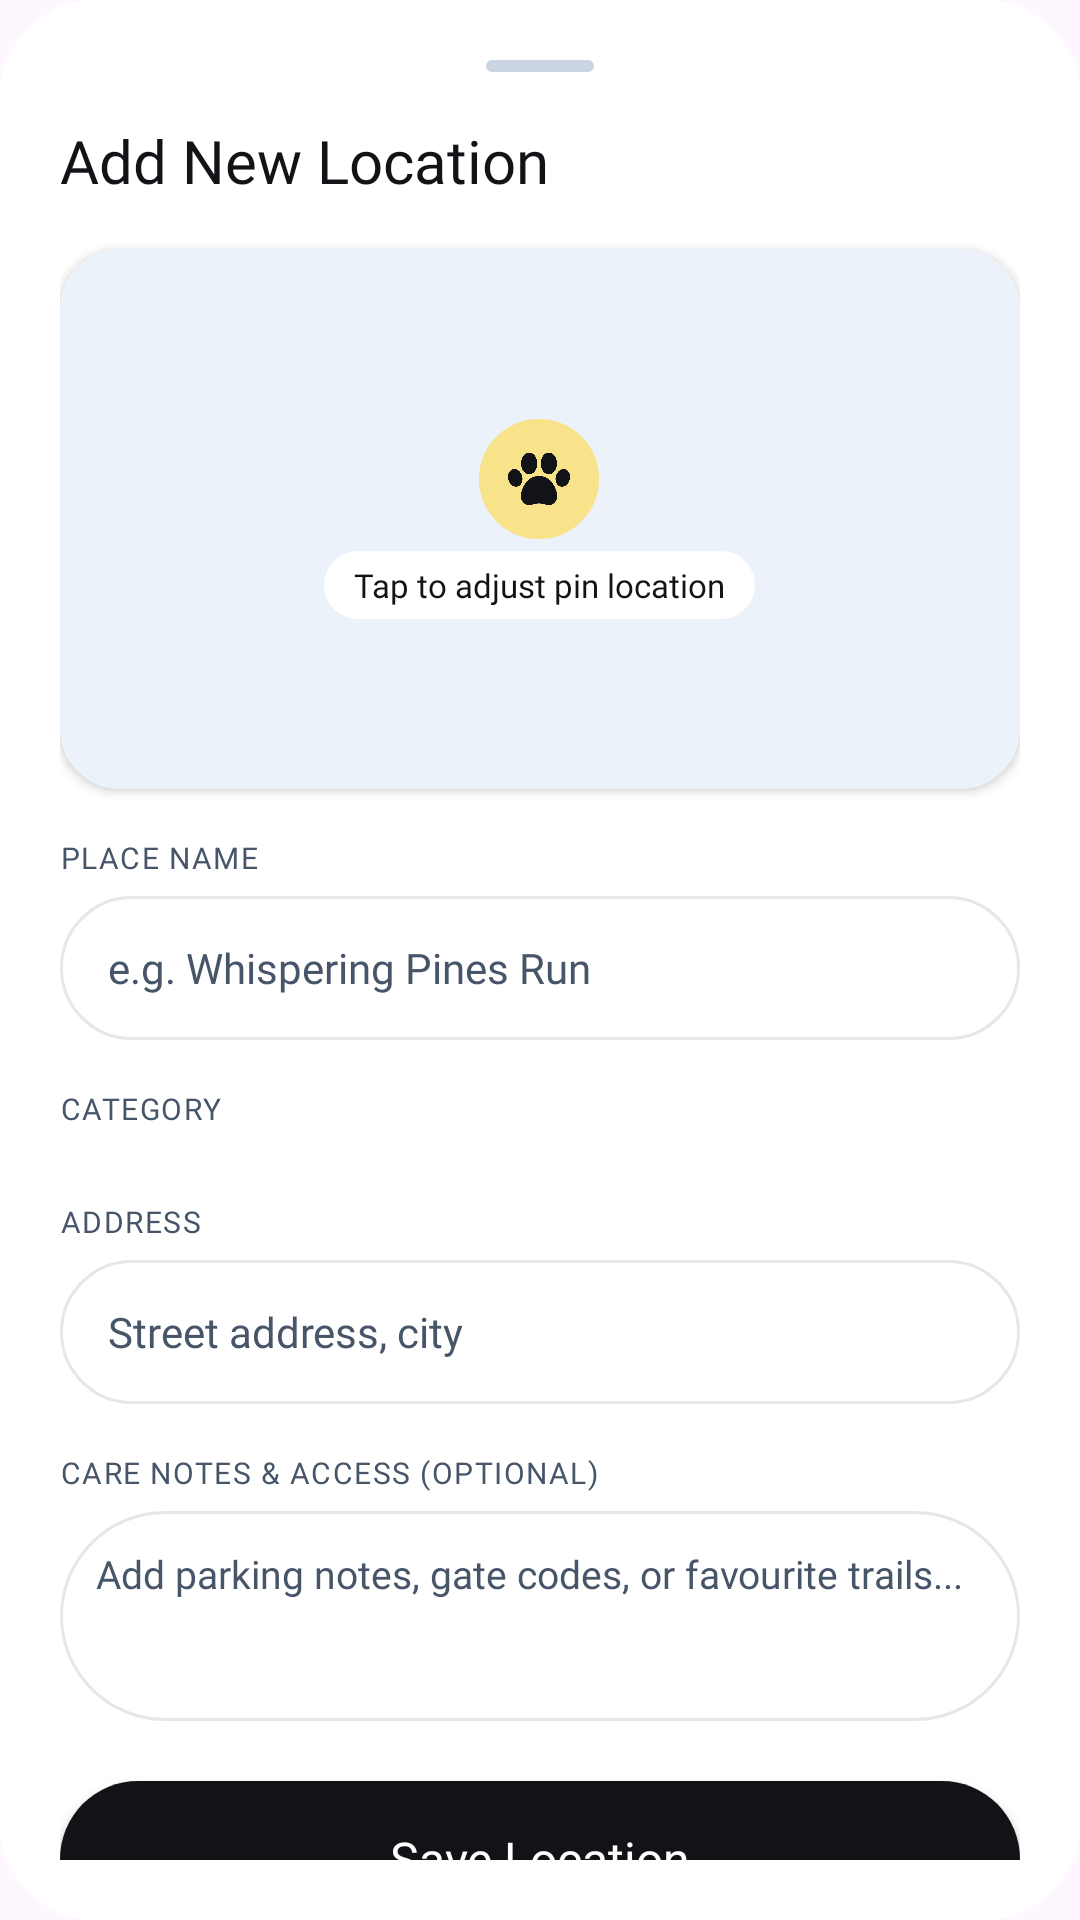

Where to tap for icons on this 1080*1920 app screen, as (x,y):
paw: (539,479)
